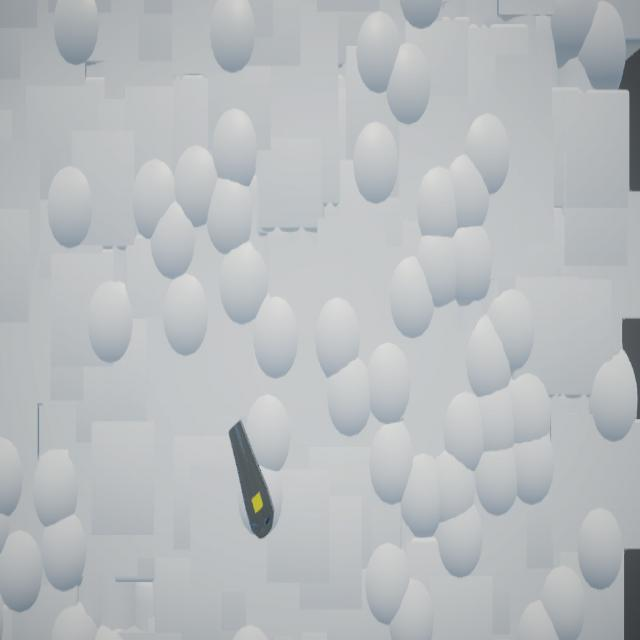handle_knife: (229, 420, 276, 541)
